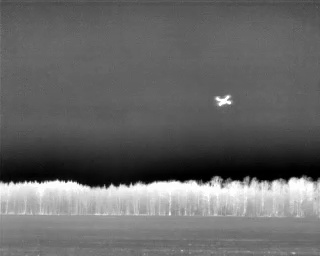DRONE: (211, 90, 238, 111)
